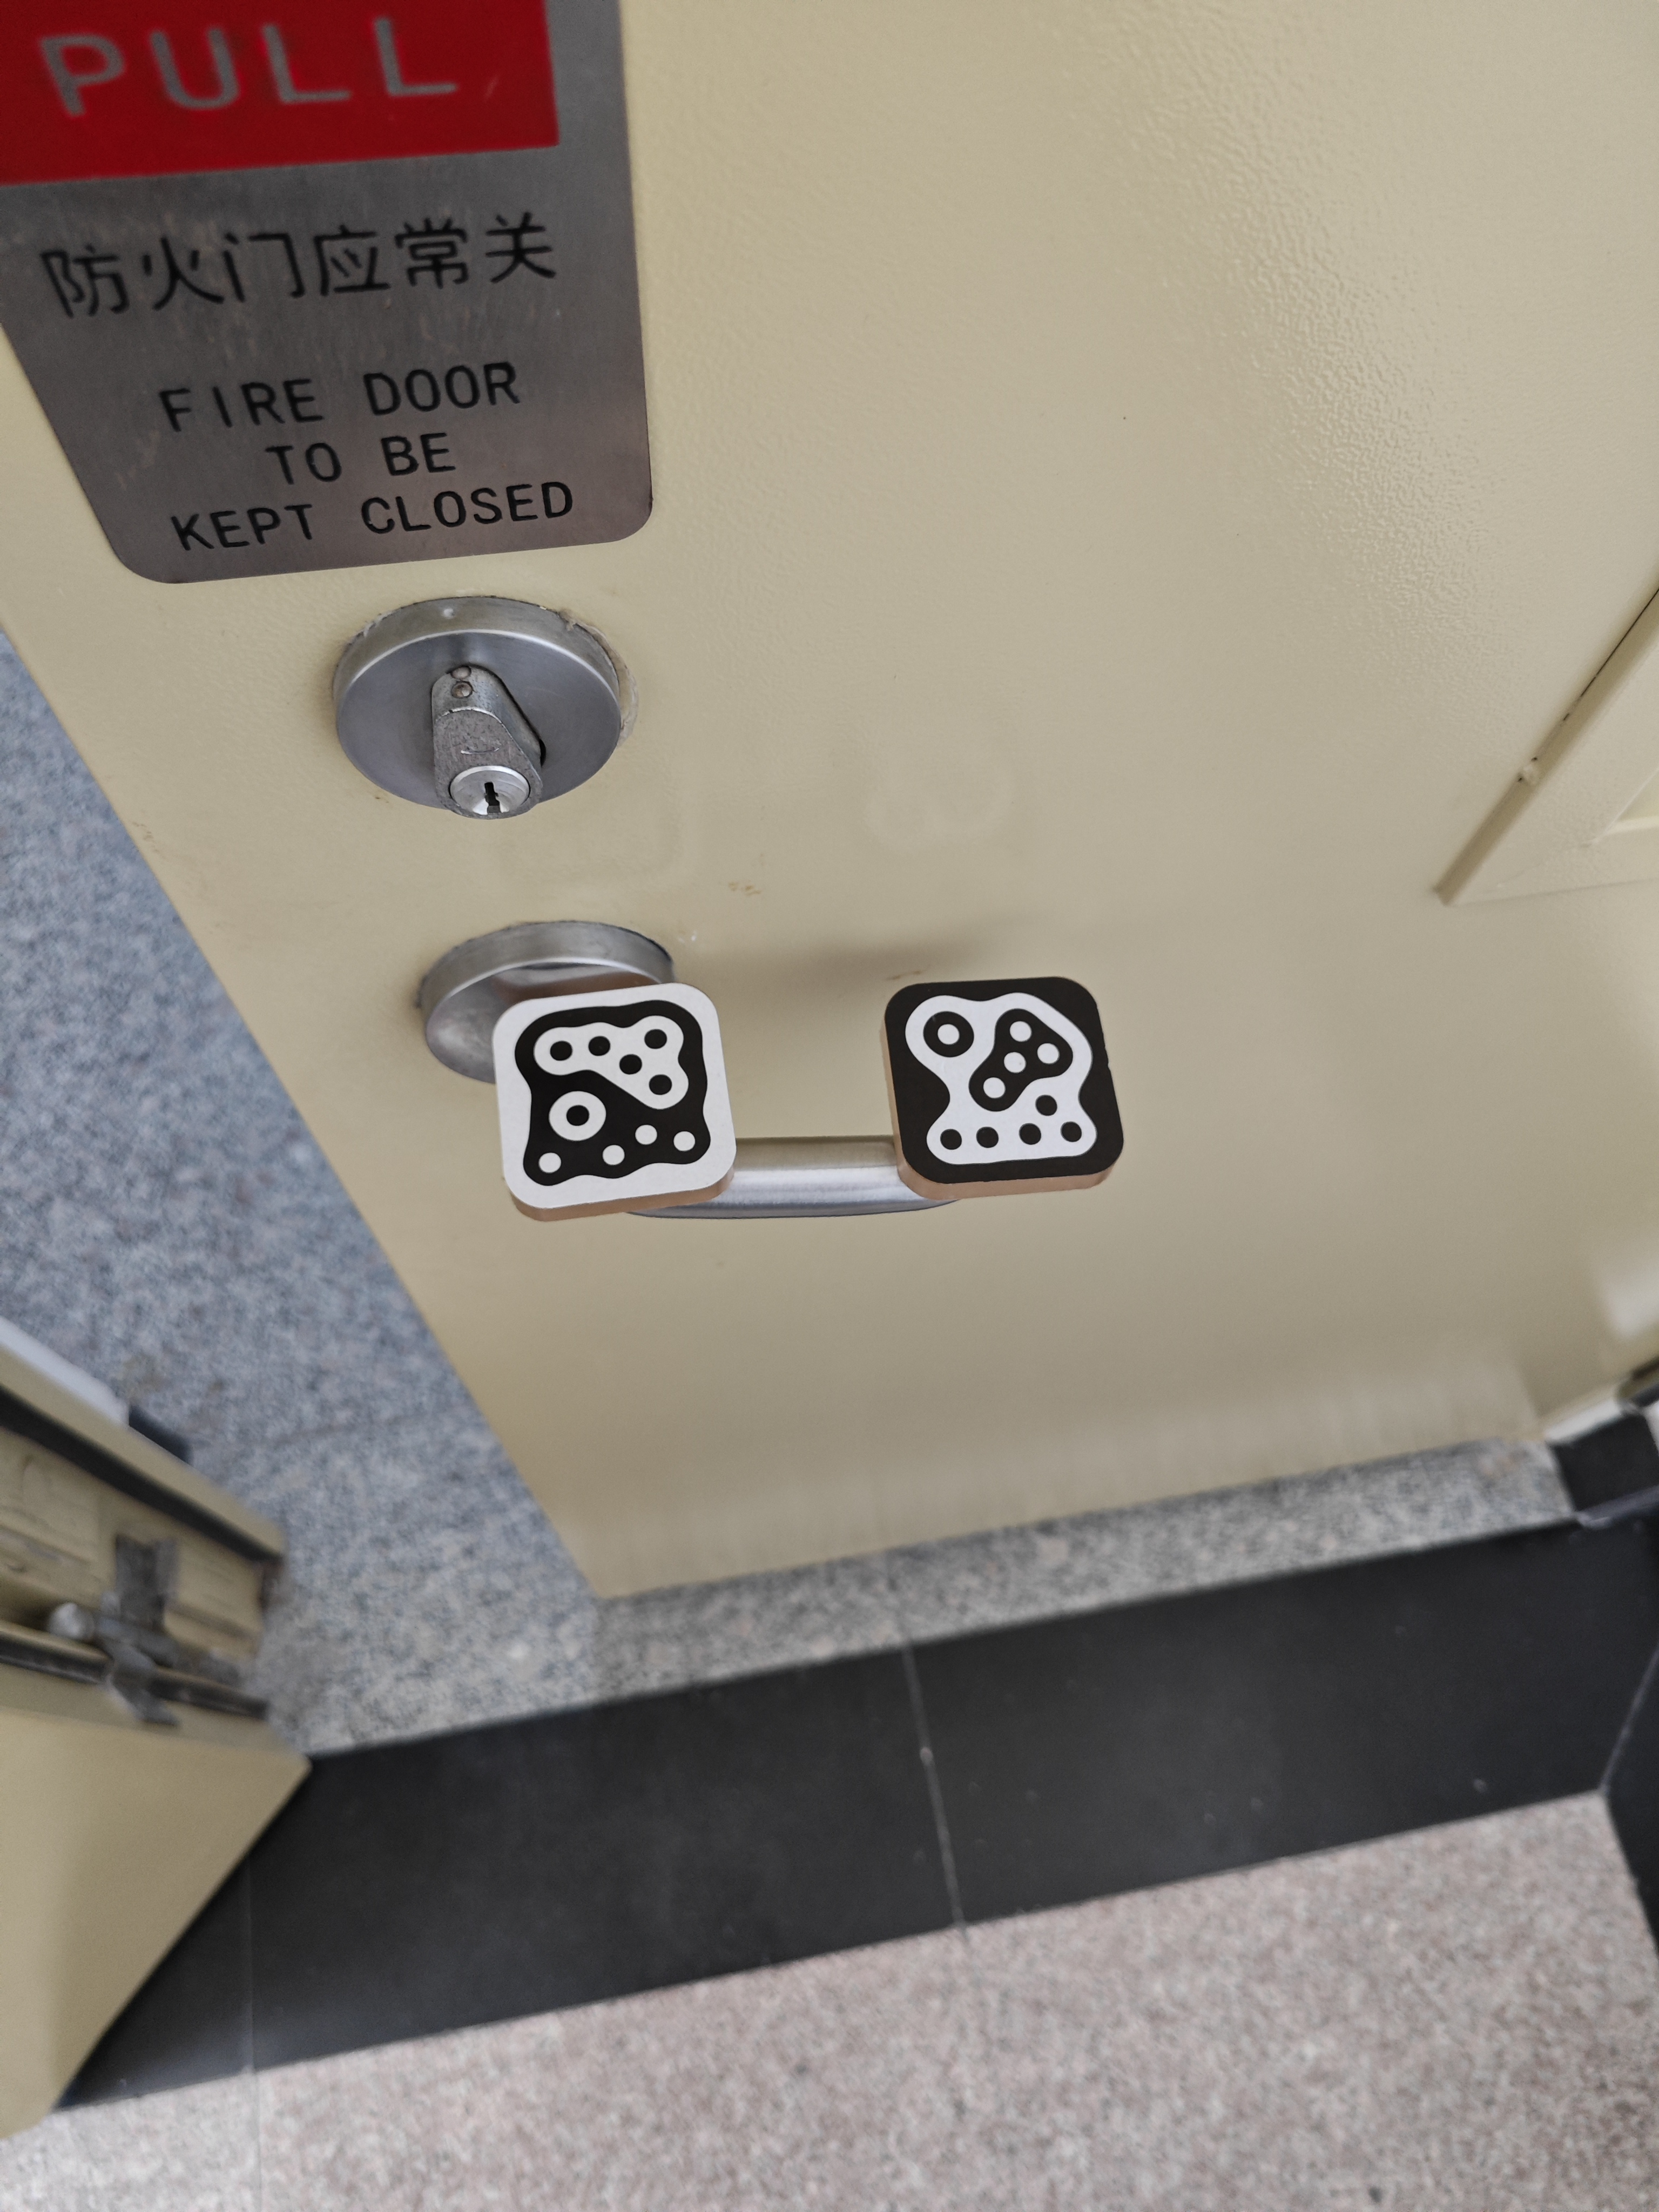mark1: (511, 1000, 716, 1188)
mark2: (901, 981, 1105, 1170)
